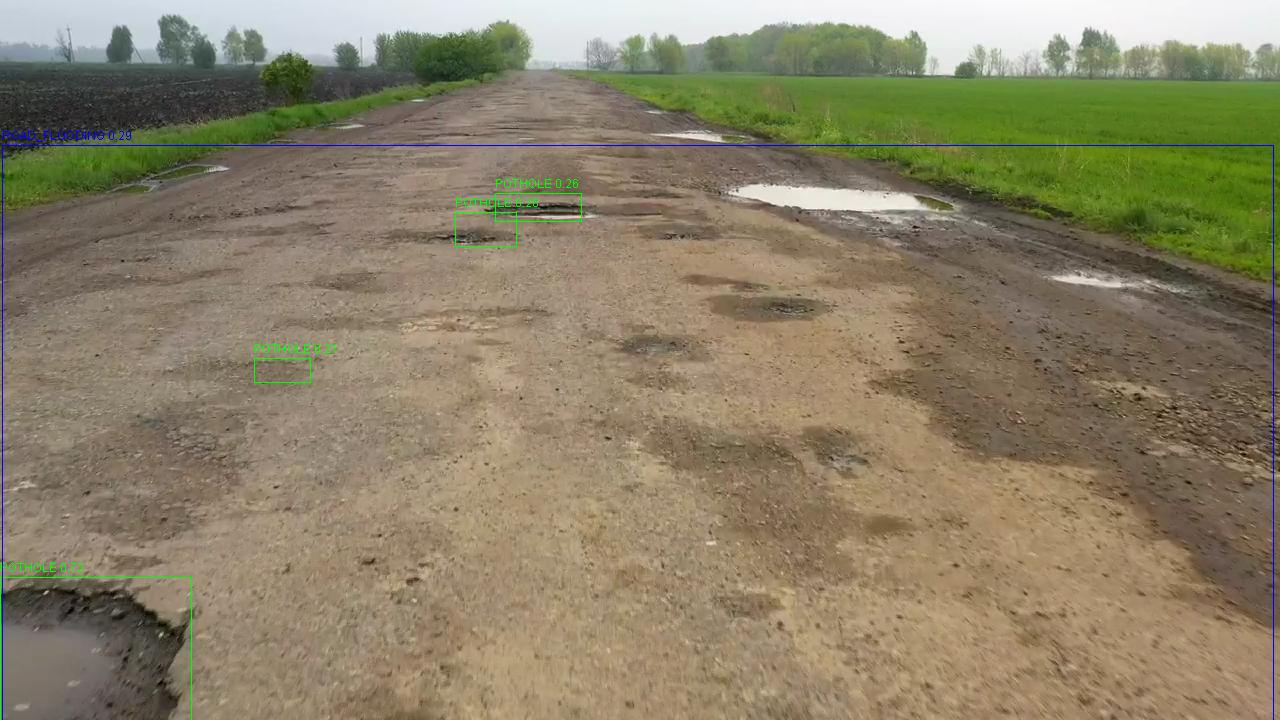ROAD_OBSTACLE: (141, 234, 755, 486)
